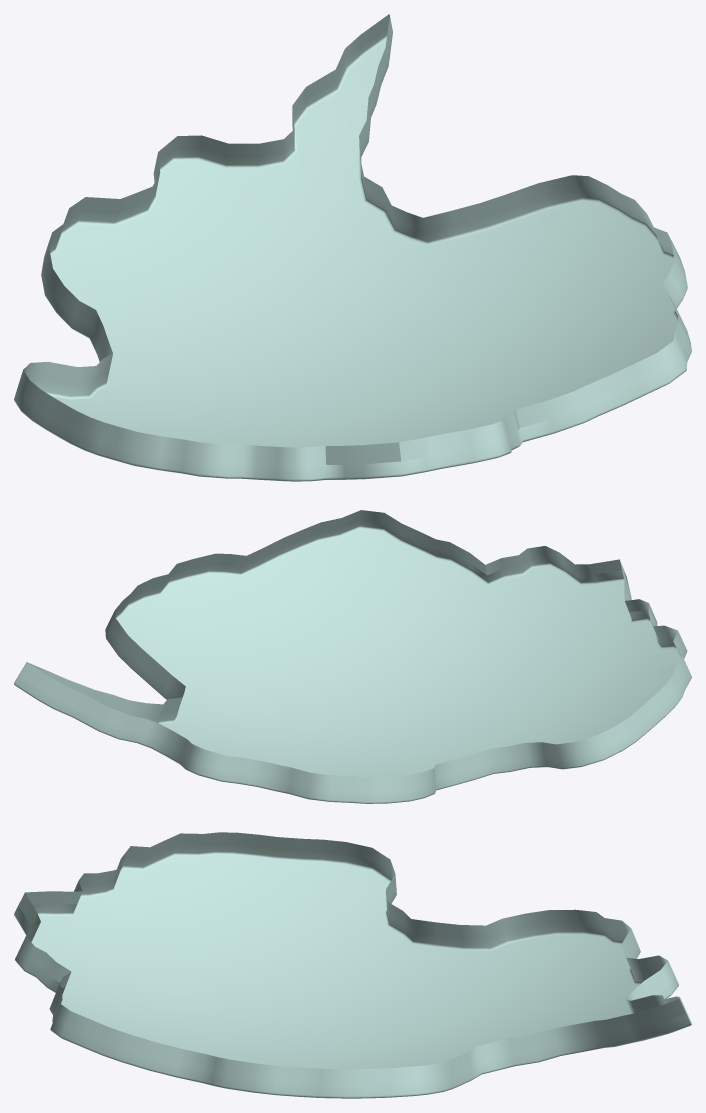
3 views of the same model, one above another, from view 1: azimuth 30°, elevation 25°; view 2: azimuth 150°, elevation 25°; view 3: azimuth 270°, elevation 25° (orthographic). The views are drawn at different scales.
Visible parts, largest first — view 1: c5; view 2: c5; view 3: c5.
Part boxes in pixels (x1=…): c5: x1=14, y1=14, x2=691, y2=481; c5: x1=14, y1=510, x2=691, y2=803; c5: x1=14, y1=832, x2=691, y2=1098.
Size of the model in its own units: 0.7612 by 0.1915 by 0.8254.
